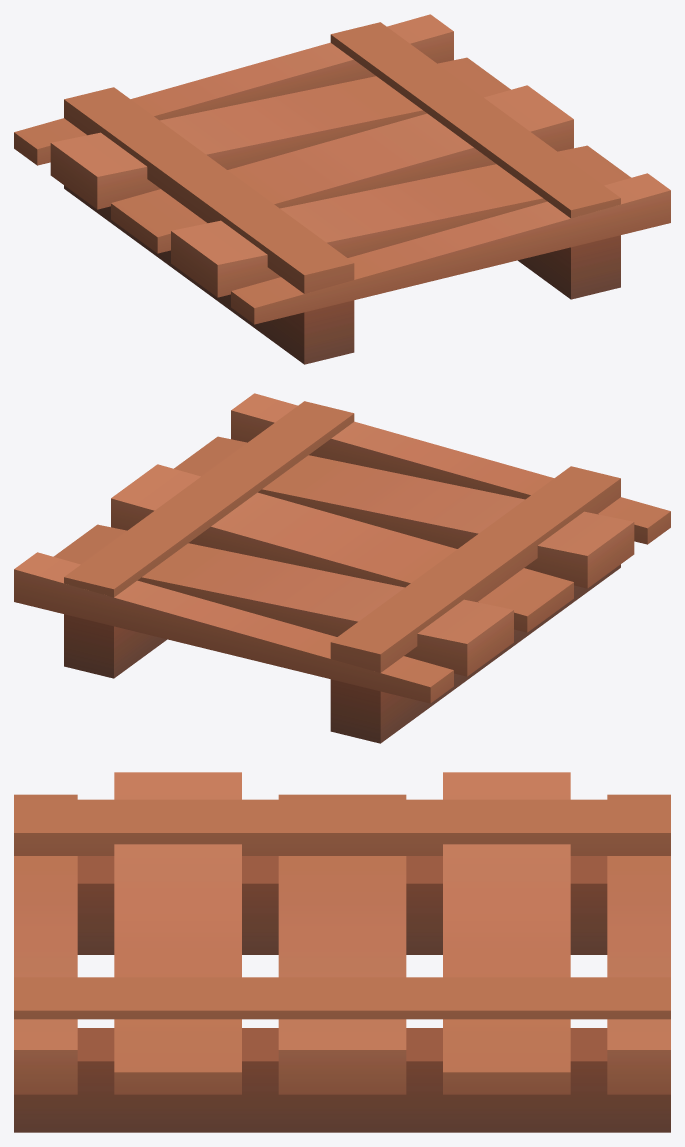
The model's file is kenney-platformer-platform-fortified.glb.
The picture shows the model from 3 angles, top to bottom: view 1: azimuth 30°, elevation 25°; view 2: azimuth 150°, elevation 25°; view 3: azimuth 270°, elevation 25°; orthographic projection. The views are drawn at different scales.
Parts seen in each view (by area): view 1: platform-fortified; view 2: platform-fortified; view 3: platform-fortified.
Boxes of the visible parts, <box> form: platform-fortified: <box>14,14,670,364</box>; platform-fortified: <box>14,393,670,743</box>; platform-fortified: <box>14,772,670,1132</box>.
Bounding box in the file's own units: 1 × 0.205 × 1.
1 material, 1 textured.
